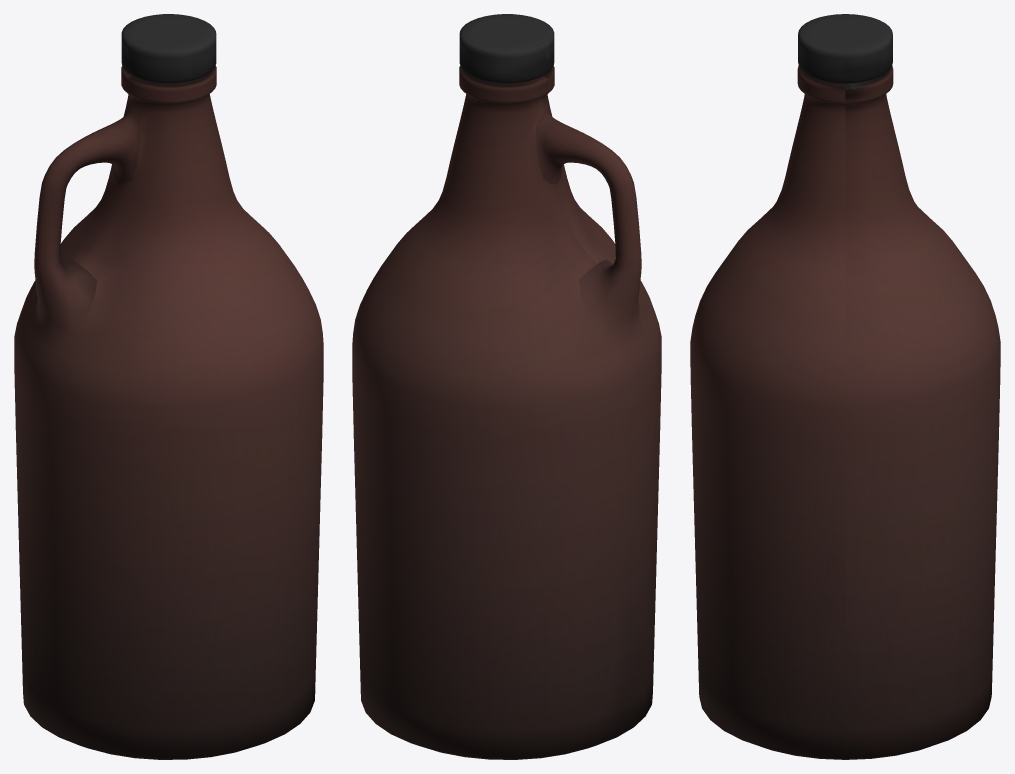
File: GARRAFA_3.obj
3 views of the same model, side by side, from view 1: azimuth 30°, elevation 25°; view 2: azimuth 150°, elevation 25°; view 3: azimuth 270°, elevation 25° (orthographic).
Visible parts, largest first — view 1: Cylinder; view 2: Cylinder; view 3: Cylinder.
Part boxes in pixels (<box>): Cylinder: <box>14,14,323,759</box>; Cylinder: <box>352,14,661,759</box>; Cylinder: <box>690,14,1000,759</box>.
Size of the model in its own units: 0.2533 by 0.6077 by 0.2533.
